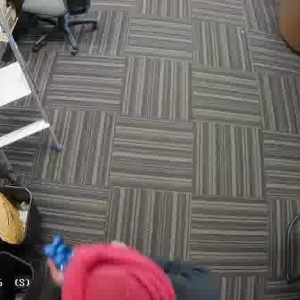person: (48, 244, 204, 300)
